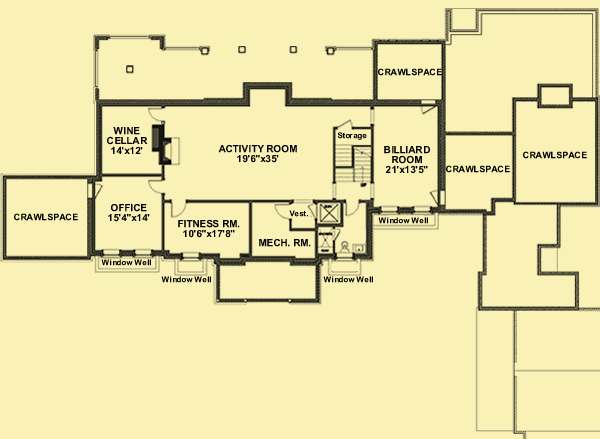door: (274, 202, 292, 221), (170, 199, 188, 217), (146, 106, 165, 122), (146, 178, 163, 195), (345, 201, 359, 217)
large_sink: (338, 239, 351, 252)
small_sink: (351, 244, 367, 255)
stairs: (334, 126, 373, 186)
windows: (98, 248, 169, 257), (378, 206, 433, 216), (109, 33, 150, 41), (93, 49, 99, 87), (179, 252, 199, 260)
